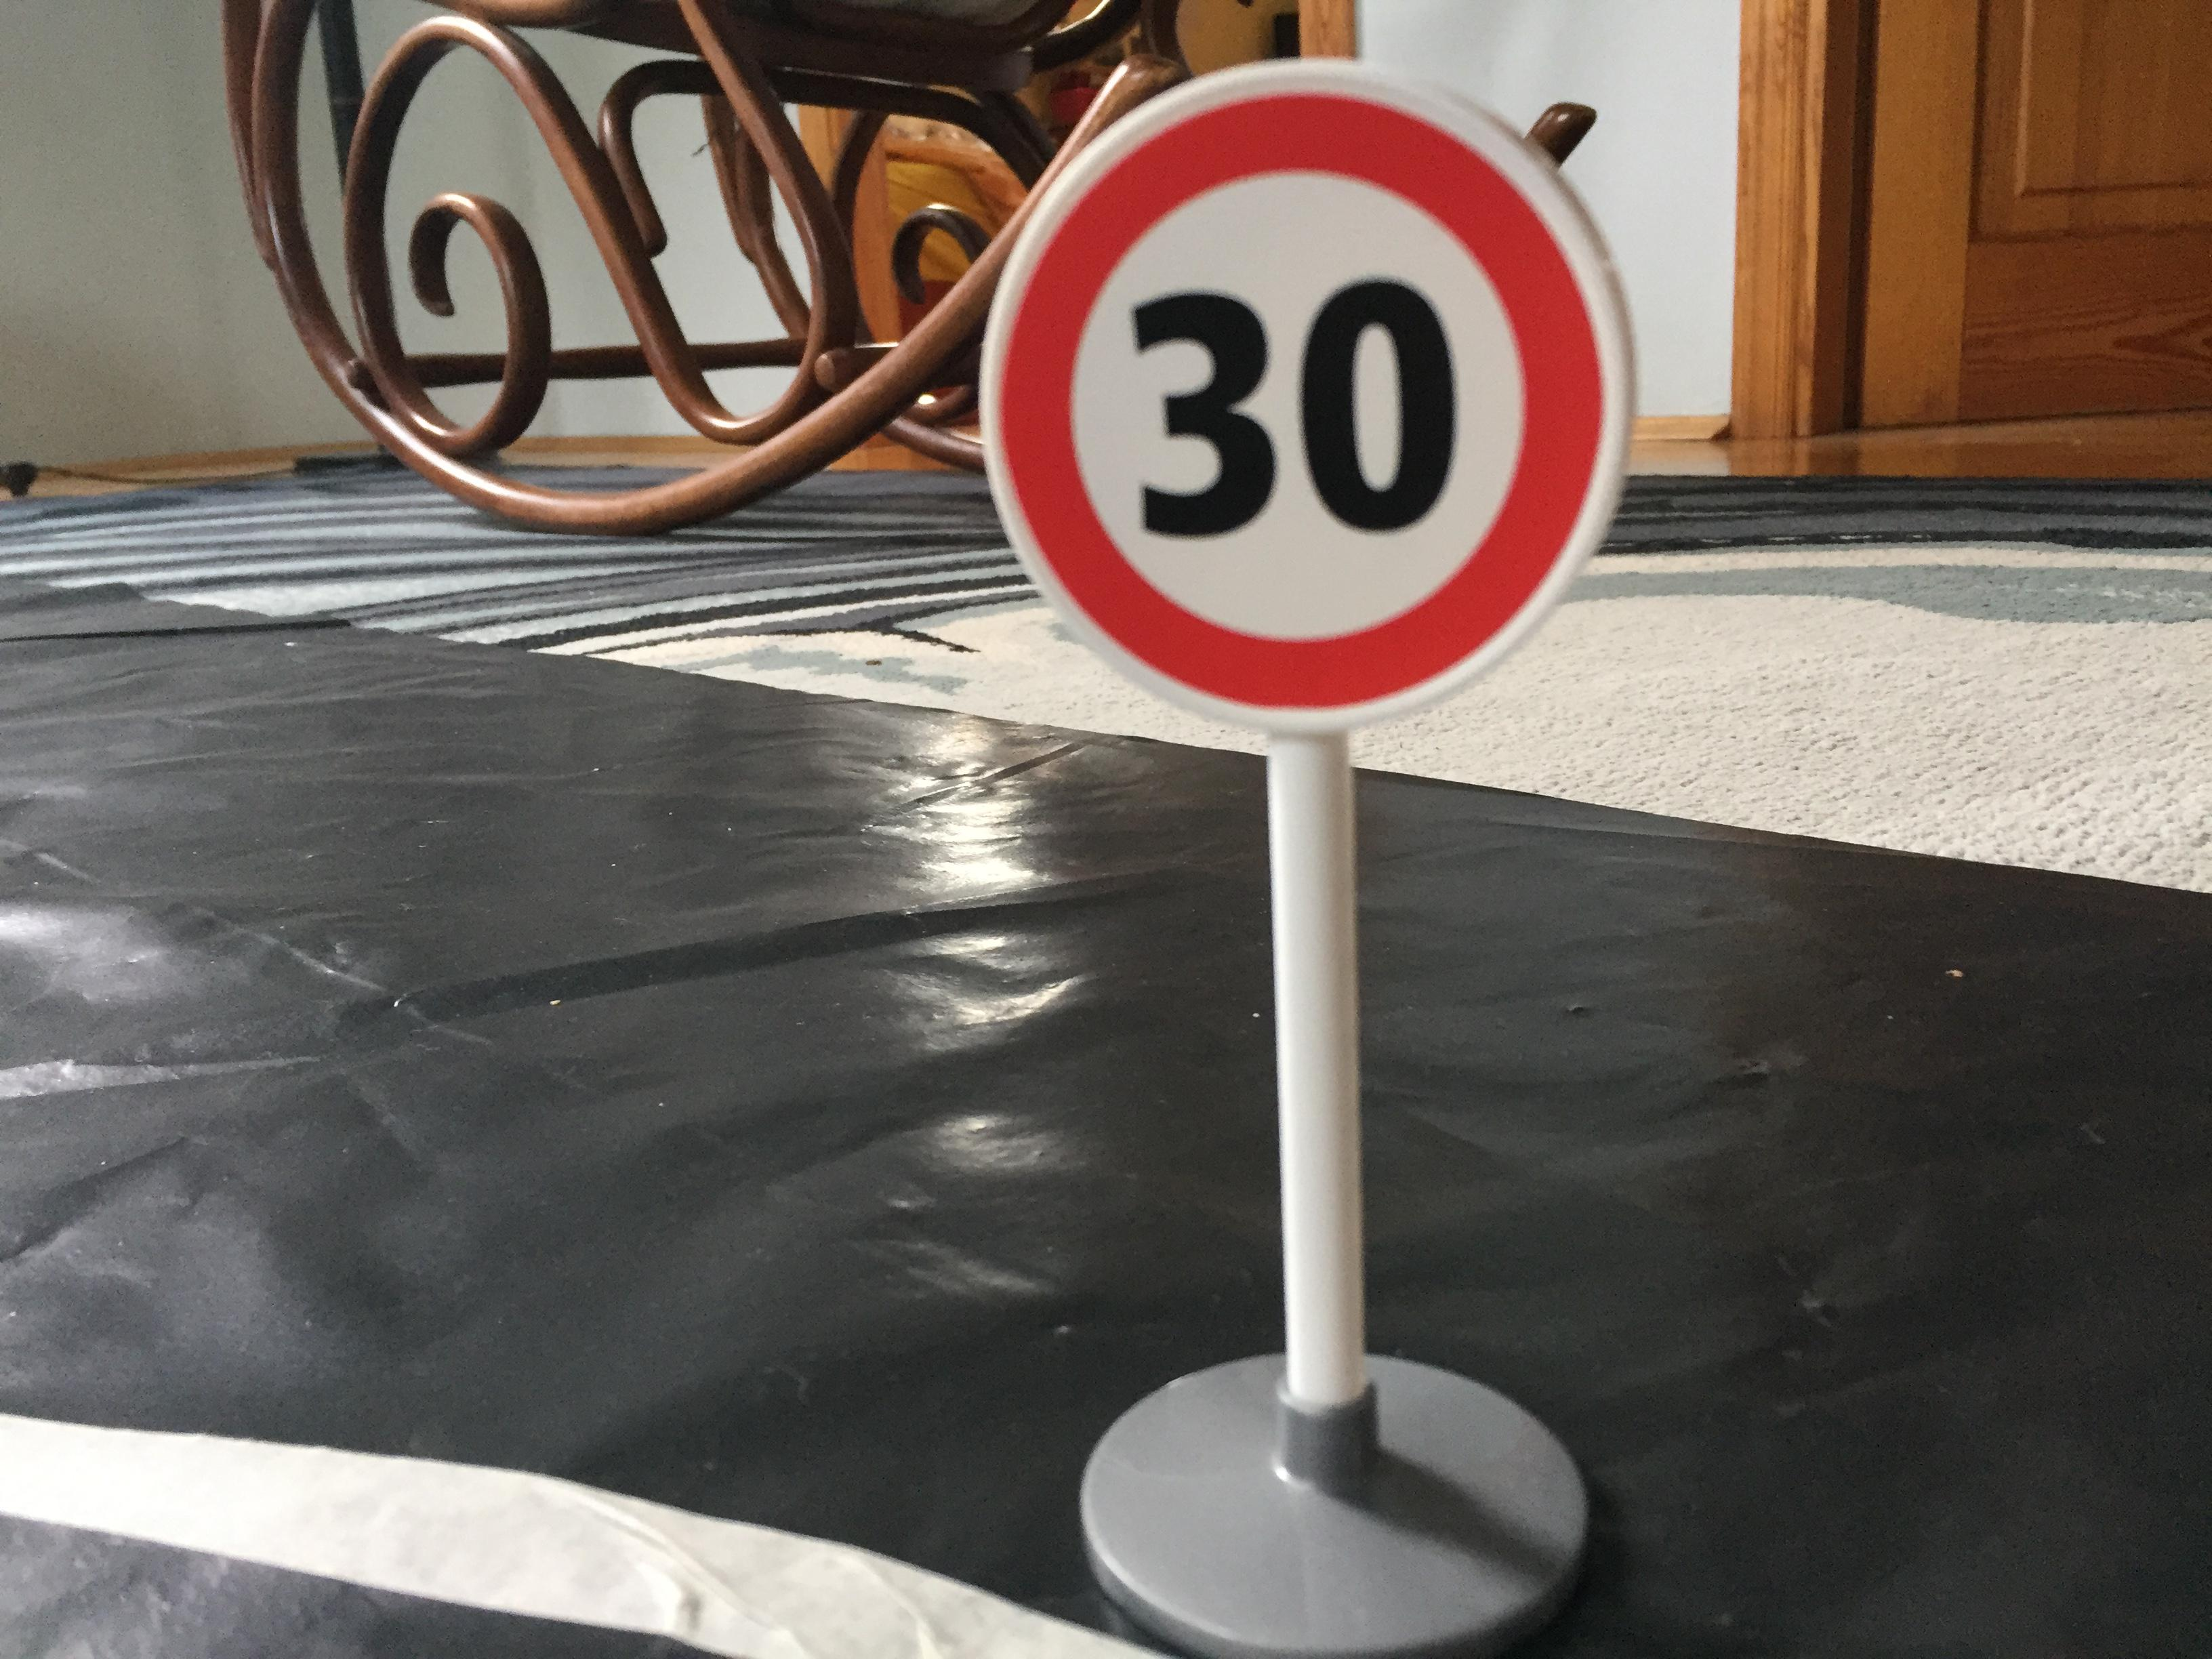speed: (960, 47, 1665, 763)
